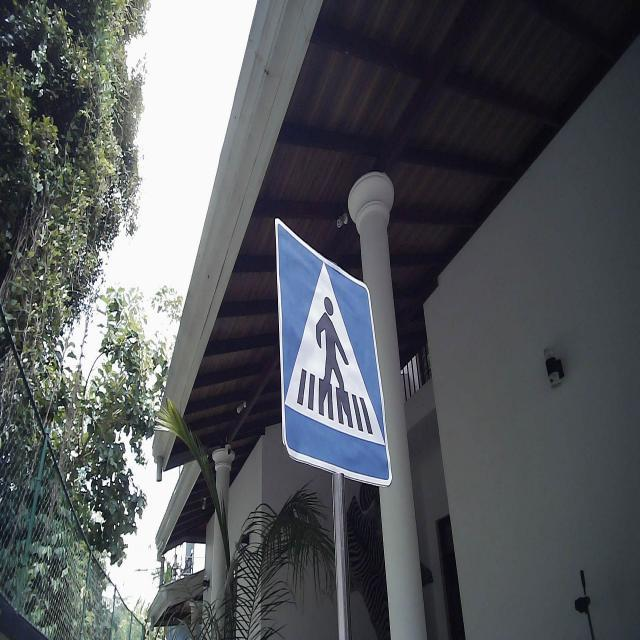crosswalk_sign: (273, 216, 394, 490)
